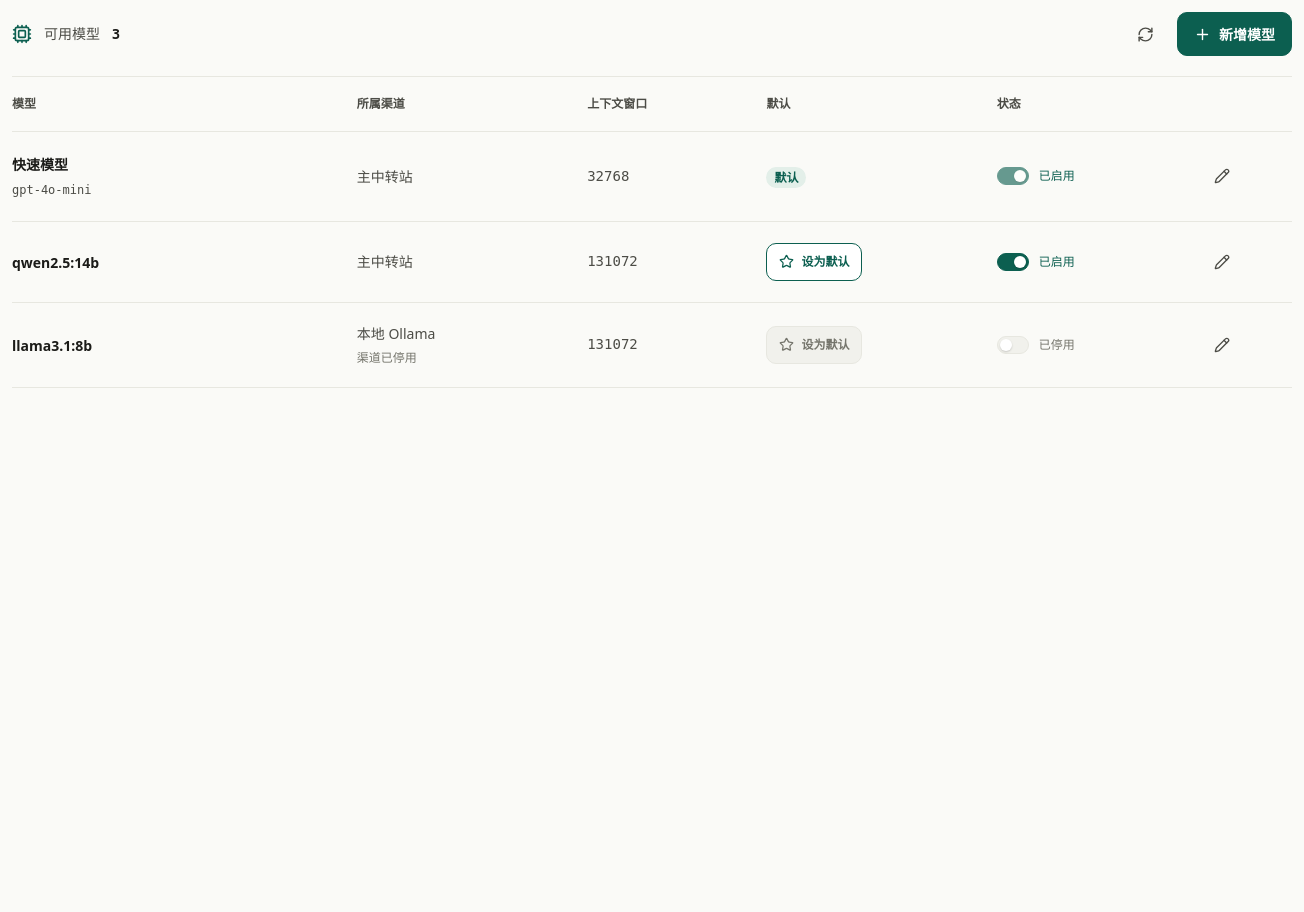
Test: LlmModelDirectory › 窗口留空就地报错，不发请求
Click the button "新增模型".
click(1234, 34)  # box [1177,12,1292,56]
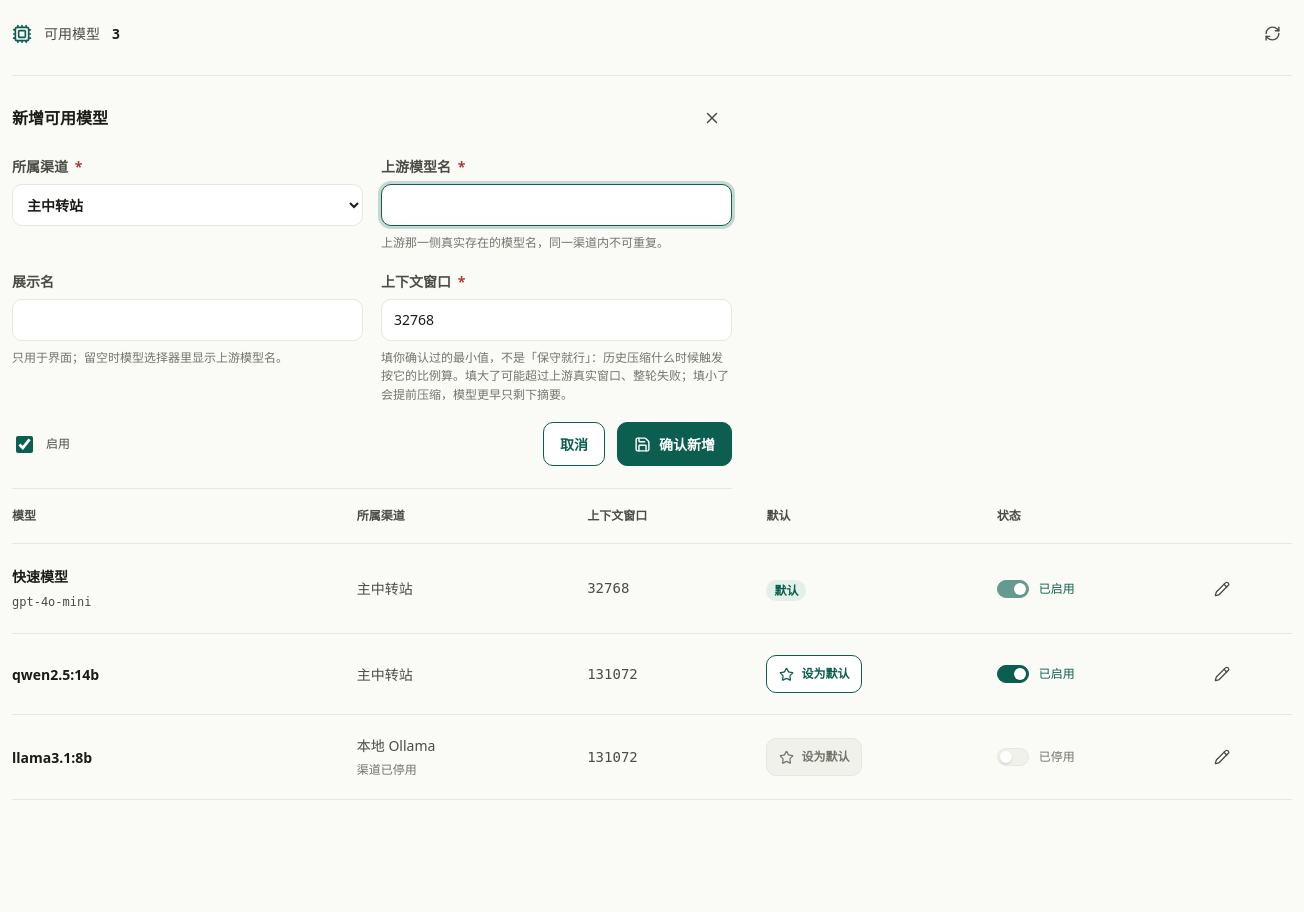
Type "qwen2.5:14b" into the field named "llm-model-upstream-name".
click(556, 205); type("qwen2.5:14b")  # box [381,184,732,226]
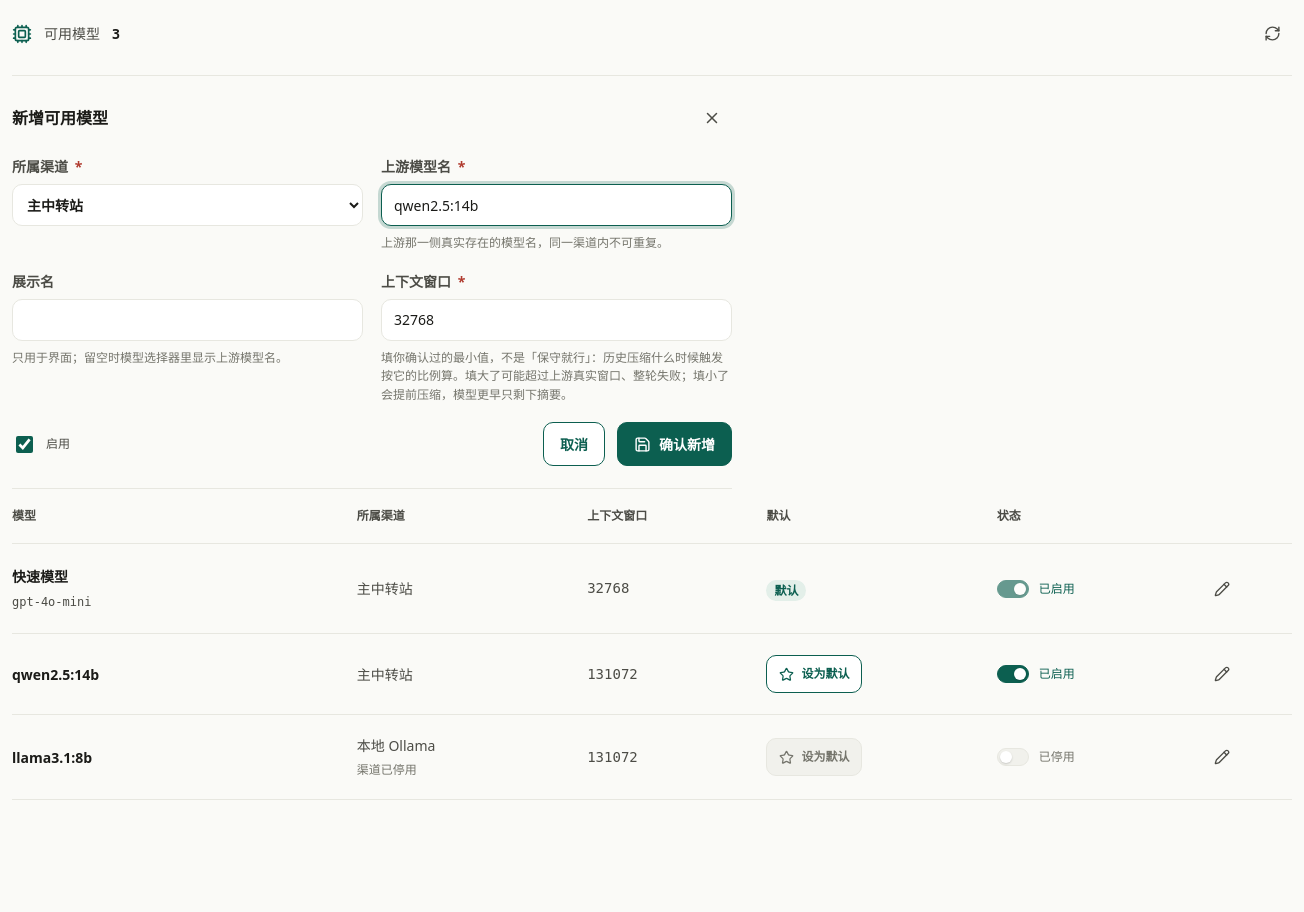
Clear the number field named "llm-model-context-window" at x=556, y=320, box [381,299,732,341]
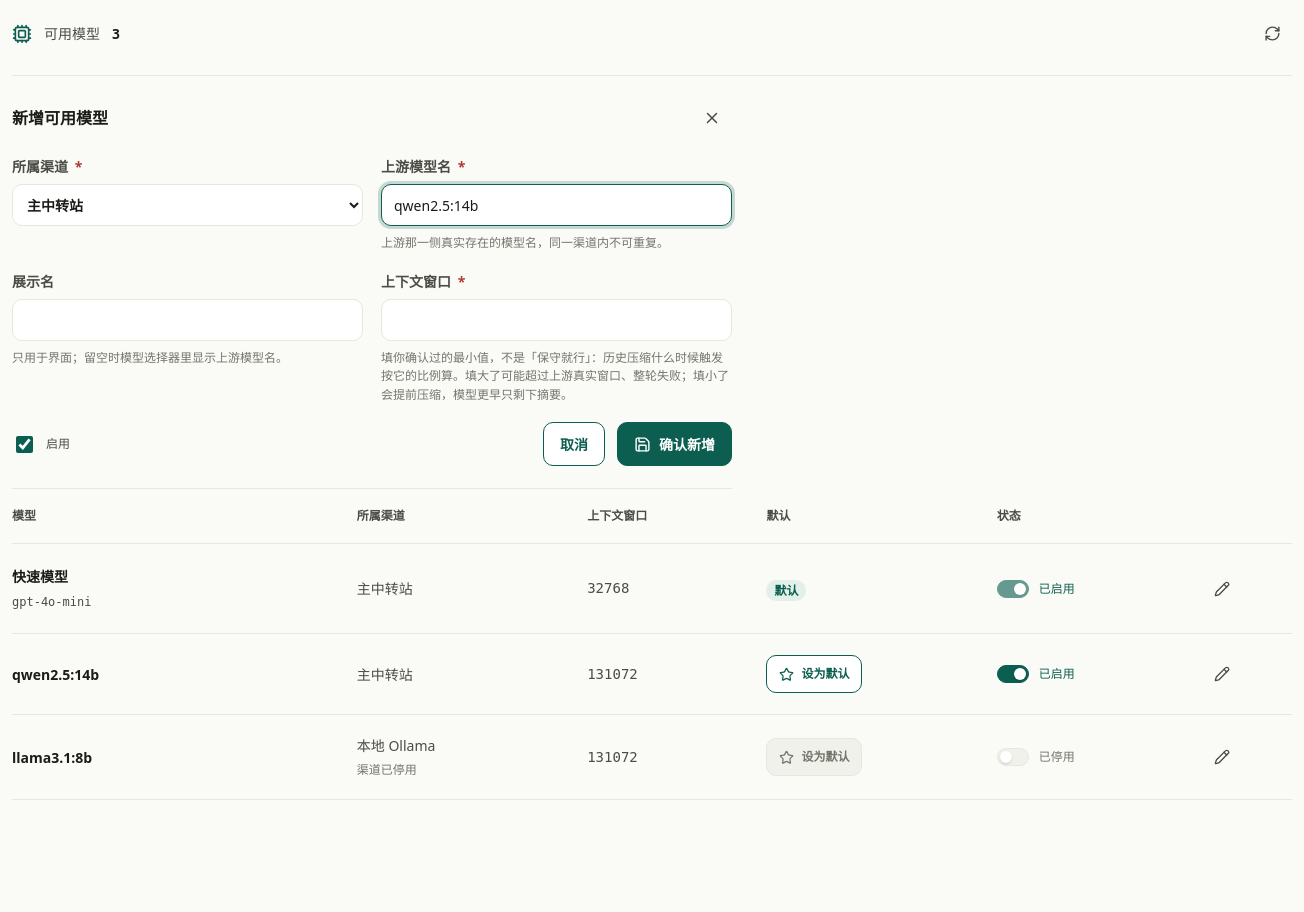
Submit the form, box [12,76,732,489]
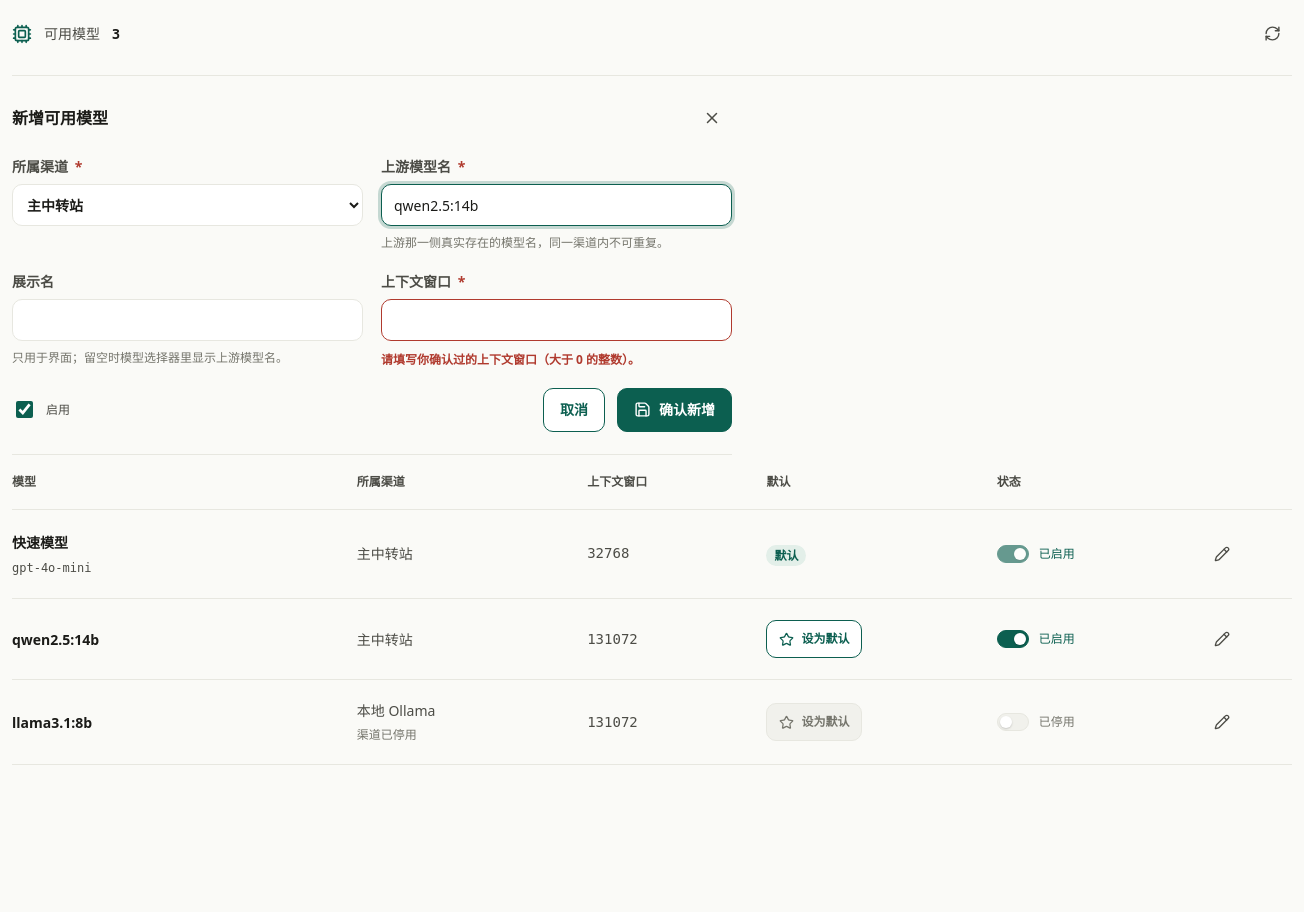
Expected: the text "请填写你确认过的上下文窗口（大于 0 的整数）。" is shown, [381,351,640,368]
